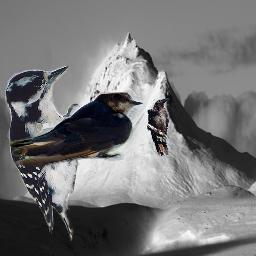Crow: (147, 98, 169, 156)
Swallow: (9, 92, 143, 167)
Woodpecker: (5, 66, 82, 242)
